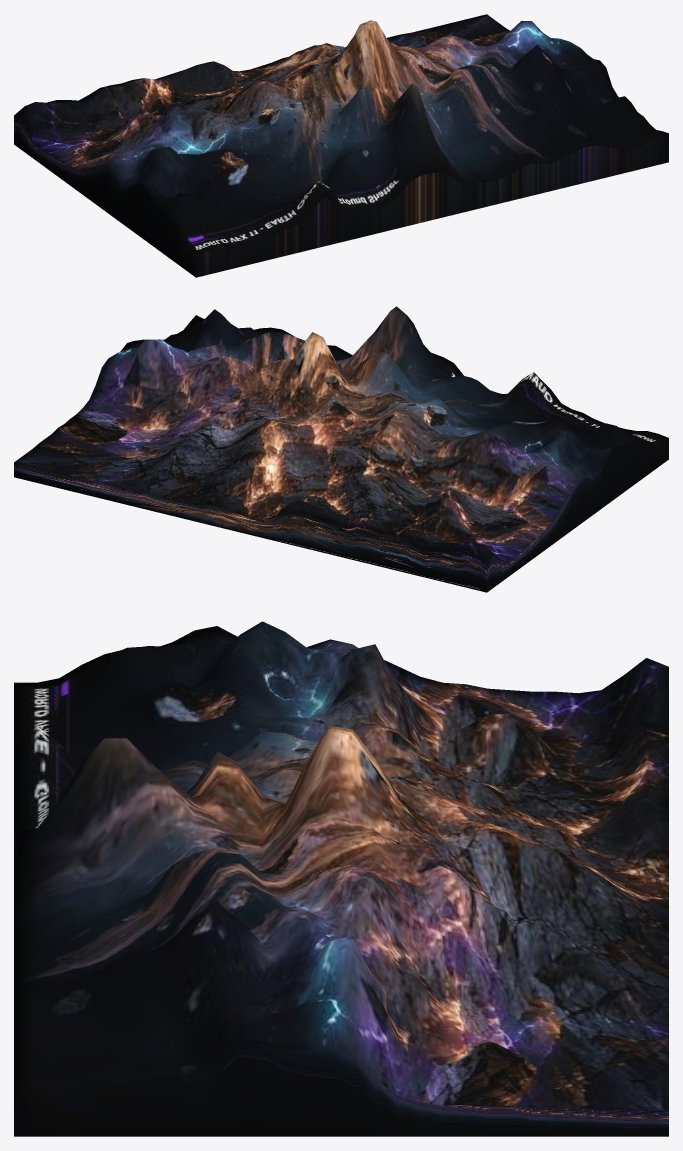
Rendered from WORLD_VFX_11_Earth_Quake.glb.
3 views of the same model, one above another, from view 1: azimuth 30°, elevation 25°; view 2: azimuth 150°, elevation 25°; view 3: azimuth 270°, elevation 25° (orthographic). The views are drawn at different scales.
Visible parts, largest first — view 1: WORLD_VFX_11_Earth_Quake; view 2: WORLD_VFX_11_Earth_Quake; view 3: WORLD_VFX_11_Earth_Quake.
Part boxes in pixels (bbox=[...]): WORLD_VFX_11_Earth_Quake: bbox=[14, 14, 668, 277]; WORLD_VFX_11_Earth_Quake: bbox=[14, 306, 668, 592]; WORLD_VFX_11_Earth_Quake: bbox=[14, 621, 668, 1136].
Bounding box in the file's own units: 2 × 0.51 × 1.33.
1 material, 1 textured.
